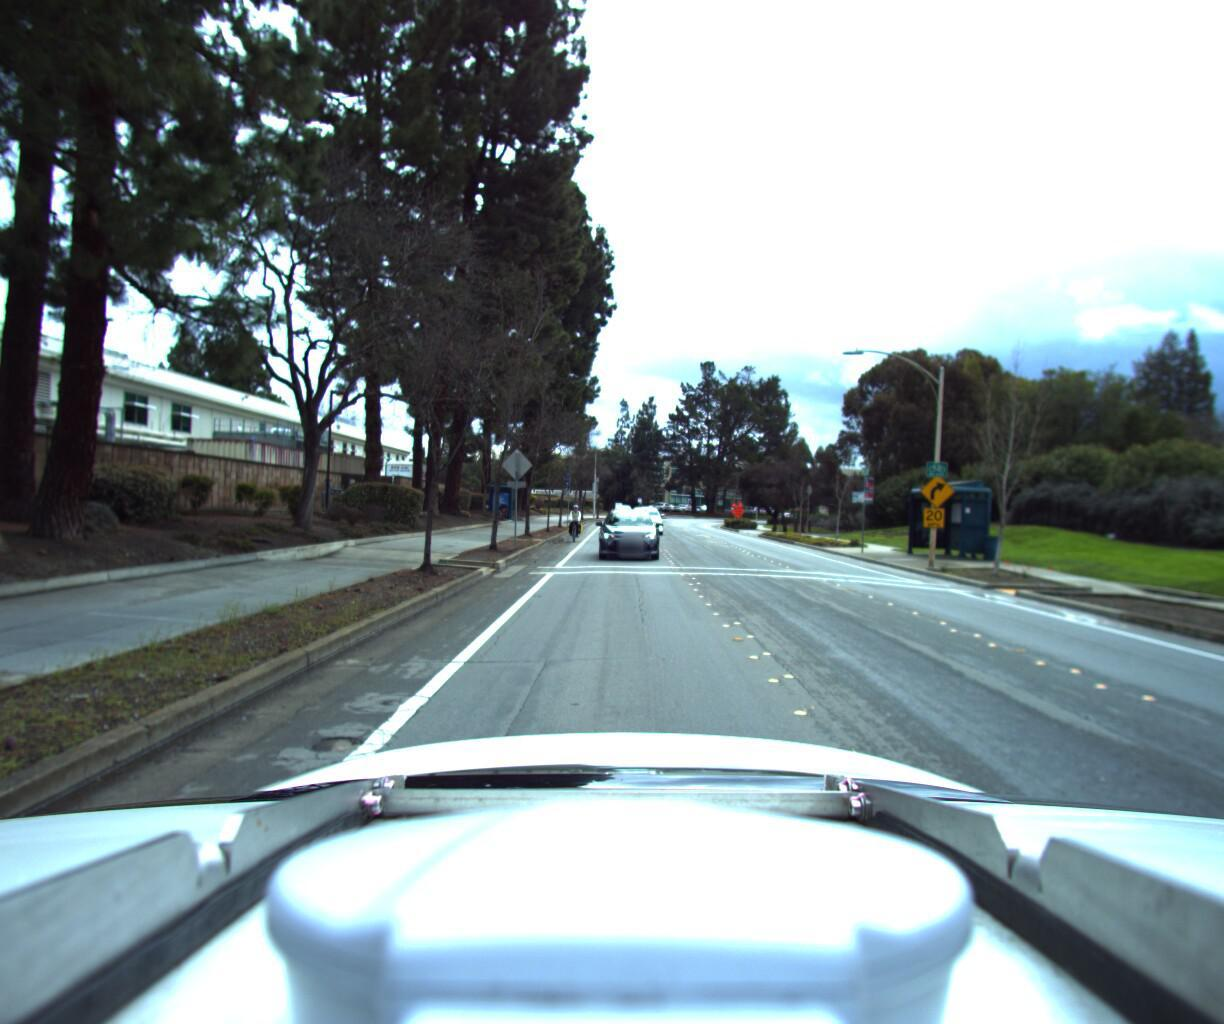bicycle: (563, 498, 585, 538)
car: (592, 501, 659, 556), (627, 499, 664, 530)
truck: (370, 451, 441, 500)
